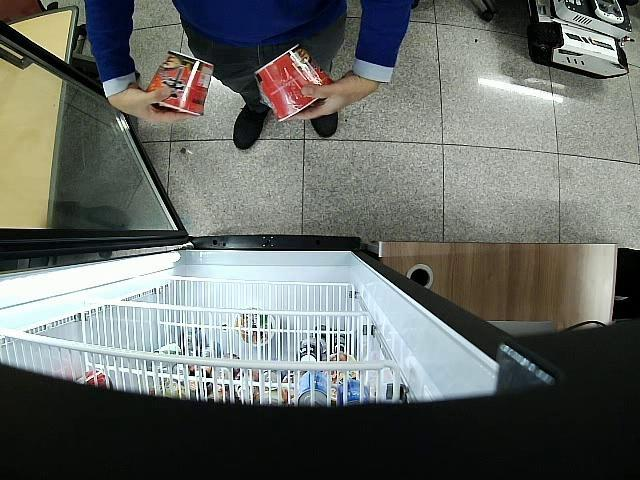01_ShinRamen_L: (255, 44, 335, 122), (148, 50, 213, 116)
